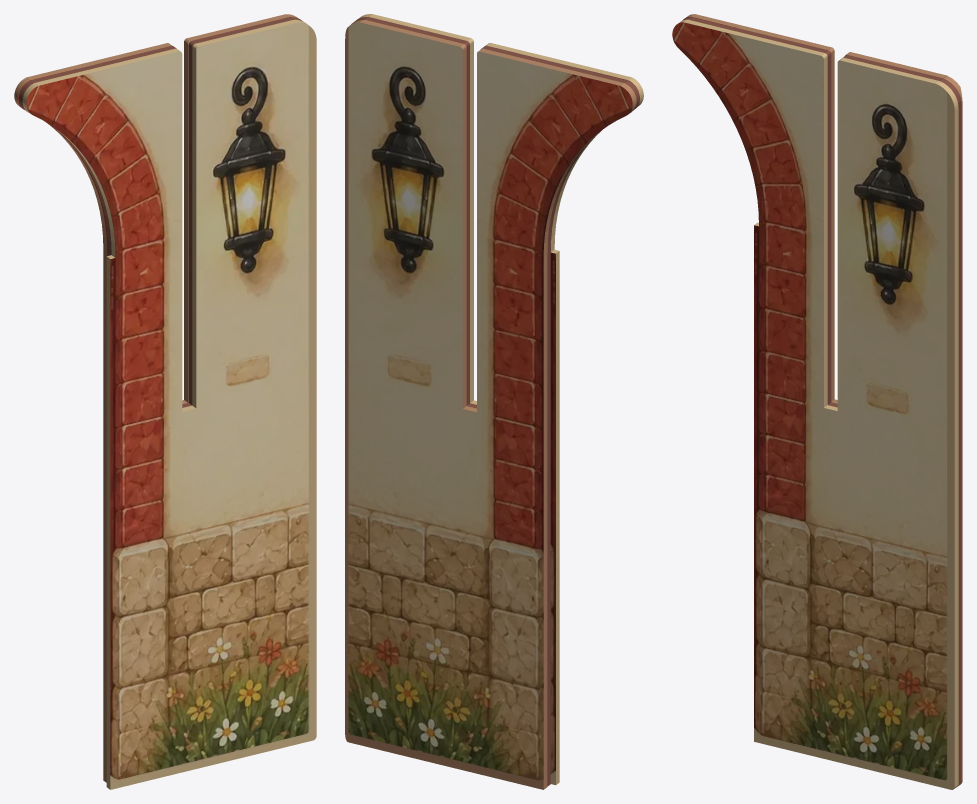
The model's file is door-panel-bottom-right-subpanel.glb.
3 views of the same model, side by side, from view 1: azimuth 30°, elevation 25°; view 2: azimuth 150°, elevation 25°; view 3: azimuth 330°, elevation 25° (orthographic). The views are drawn at different scales.
Visible parts, largest first — view 1: door-panel-bottom-right-subpanel; view 2: door-panel-bottom-right-subpanel; view 3: door-panel-bottom-right-subpanel.
Part boxes in pixels (box(x1,y1,x2,y2)): door-panel-bottom-right-subpanel: box(14, 14, 316, 789); door-panel-bottom-right-subpanel: box(345, 14, 643, 789); door-panel-bottom-right-subpanel: box(672, 14, 962, 789).
Size of the model in its own units: 390 by 925 by 27.
5 materials, 2 textured.
